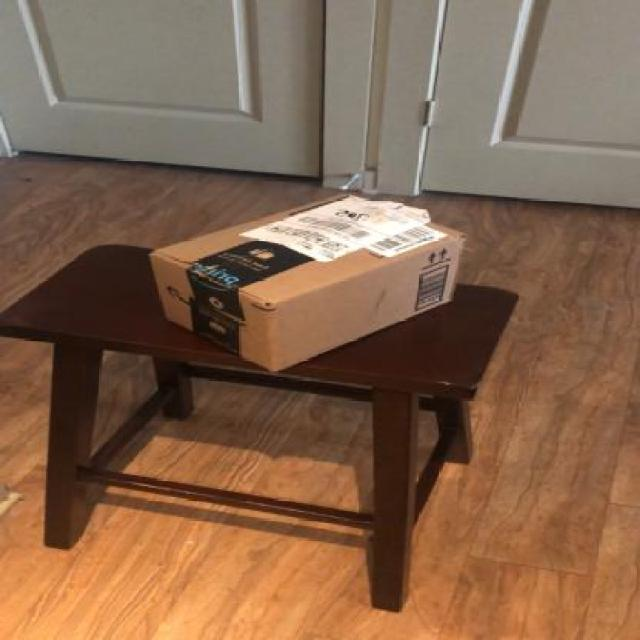cardboxes: (150, 193, 468, 379)
